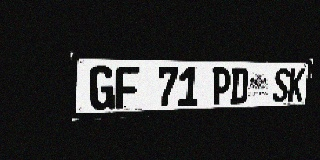1: (178, 67, 199, 107)
7: (156, 67, 178, 108)
D: (230, 67, 249, 104)
F: (115, 66, 139, 109)
G: (89, 66, 114, 111)
K: (288, 68, 305, 102)
P: (211, 67, 231, 105)
S: (272, 68, 290, 102)
